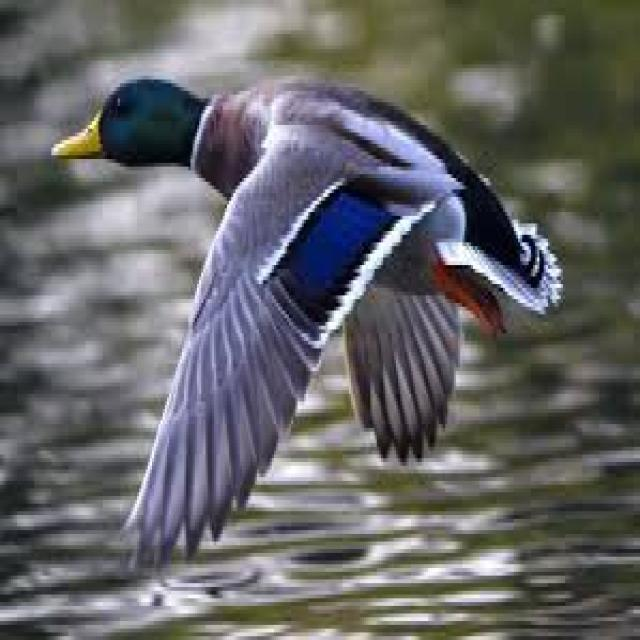Duck: (46, 61, 576, 568)
